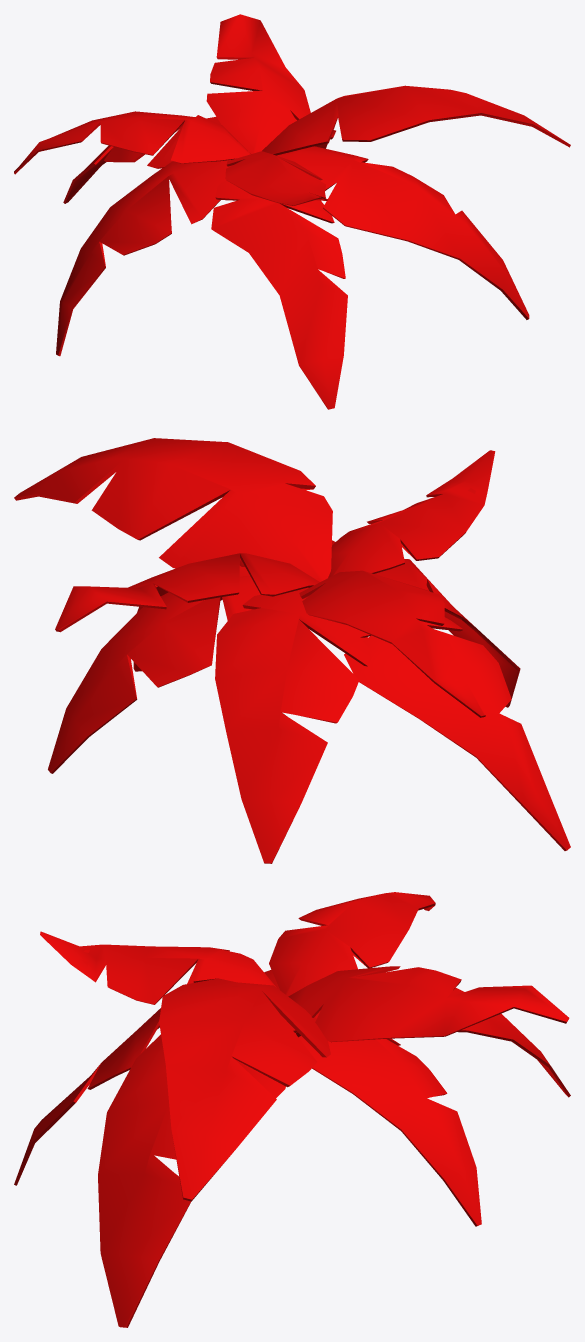
File: Jungle_Bushes_3.fbx
The picture shows the model from 3 angles, top to bottom: view 1: azimuth 30°, elevation 25°; view 2: azimuth 150°, elevation 25°; view 3: azimuth 270°, elevation 25°; orthographic projection. The views are drawn at different scales.
Visible parts, largest first — view 1: MESH_Jungle_Bushes_3; view 2: MESH_Jungle_Bushes_3; view 3: MESH_Jungle_Bushes_3.
Part boxes in pixels (<box>): MESH_Jungle_Bushes_3: <box>14,14,570,409</box>; MESH_Jungle_Bushes_3: <box>14,438,570,863</box>; MESH_Jungle_Bushes_3: <box>14,892,570,1327</box>.
Size of the model in its own units: 17.62 by 7.72 by 14.69.
